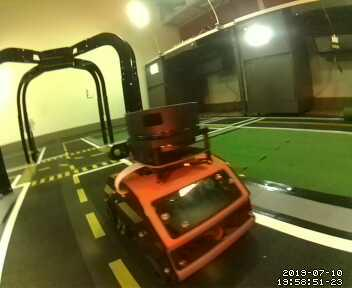pheeno: (102, 97, 258, 287)
